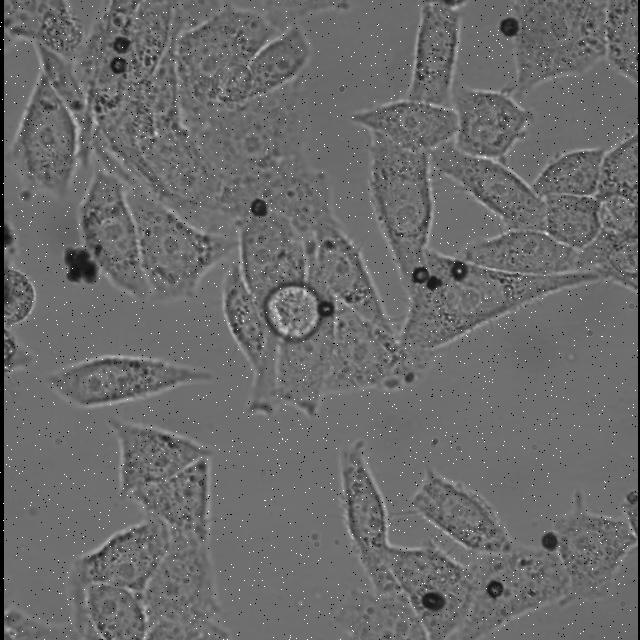microbeads: (448, 260, 468, 282), (494, 18, 518, 34), (420, 593, 444, 609), (484, 580, 504, 598), (109, 36, 131, 52), (317, 300, 335, 318), (541, 534, 559, 552), (248, 199, 268, 215), (409, 268, 427, 284), (109, 60, 125, 74)
